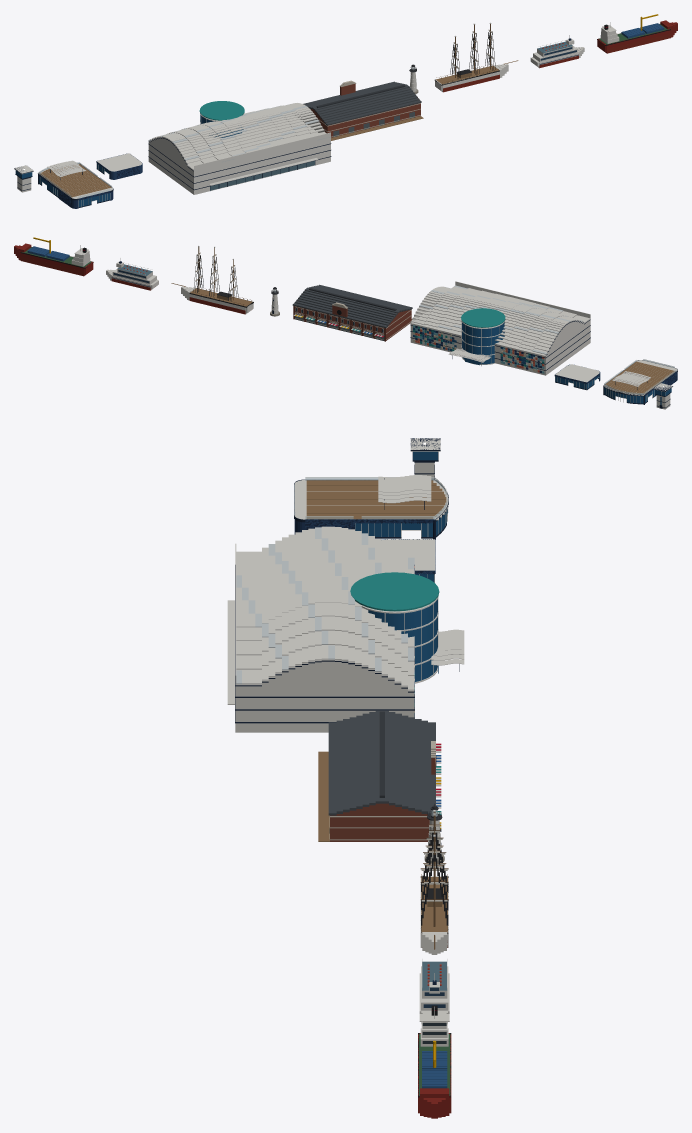
The model's file is shiomi.glb.
3 views of the same model, one above another, from view 1: azimuth 30°, elevation 25°; view 2: azimuth 150°, elevation 25°; view 3: azimuth 270°, elevation 25° (orthographic). The views are drawn at different scales.
Parts seen in each view (by area): view 1: shiomi_aquarium_body, shiomi_market_body, shiomi_headhouse_body, shiomi_tallship_body, shiomi_coaster_body, shiomi_cruiser_body, shiomi_easthall_body, shiomi_bridgetower_body; view 2: shiomi_aquarium_body, shiomi_market_body, shiomi_headhouse_body, shiomi_tallship_body, shiomi_coaster_body, shiomi_cruiser_body, shiomi_easthall_body, shiomi_bridgetower_body; view 3: shiomi_aquarium_body, shiomi_market_body, shiomi_headhouse_body, shiomi_coaster_body, shiomi_tallship_body, shiomi_cruiser_body, shiomi_easthall_body, shiomi_bridgetower_body.
Part boxes in pixels (<box>): shiomi_aquarium_body: <box>148,101,331,194</box>; shiomi_market_body: <box>303,80,423,140</box>; shiomi_headhouse_body: <box>37,160,113,208</box>; shiomi_tallship_body: <box>434,22,518,92</box>; shiomi_coaster_body: <box>597,14,677,53</box>; shiomi_cruiser_body: <box>530,35,584,68</box>; shiomi_easthall_body: <box>96,153,142,179</box>; shiomi_bridgetower_body: <box>14,165,33,192</box>; shiomi_aquarium_body: <box>410,281,590,375</box>; shiomi_market_body: <box>292,284,412,341</box>; shiomi_headhouse_body: <box>603,359,677,404</box>; shiomi_tallship_body: <box>171,245,253,314</box>; shiomi_coaster_body: <box>14,237,93,276</box>; shiomi_cruiser_body: <box>106,258,158,290</box>; shiomi_easthall_body: <box>554,364,600,390</box>; shiomi_bridgetower_body: <box>653,383,672,409</box>; shiomi_aquarium_body: <box>227,526,464,732</box>; shiomi_market_body: <box>318,710,441,841</box>; shiomi_headhouse_body: <box>294,475,448,539</box>; shiomi_coaster_body: <box>418,1005,451,1118</box>; shiomi_tallship_body: <box>420,810,448,954</box>; shiomi_cruiser_body: <box>419,959,449,1023</box>; shiomi_easthall_body: <box>381,539,435,582</box>; shiomi_bridgetower_body: <box>410,438,440,479</box>.
Bounding box in the file's own units: 454 × 38.1 × 71.4.
